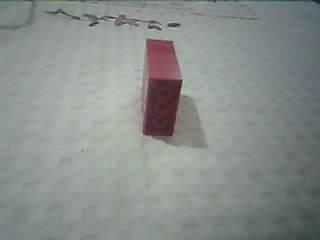lego: (137, 38, 184, 138)
